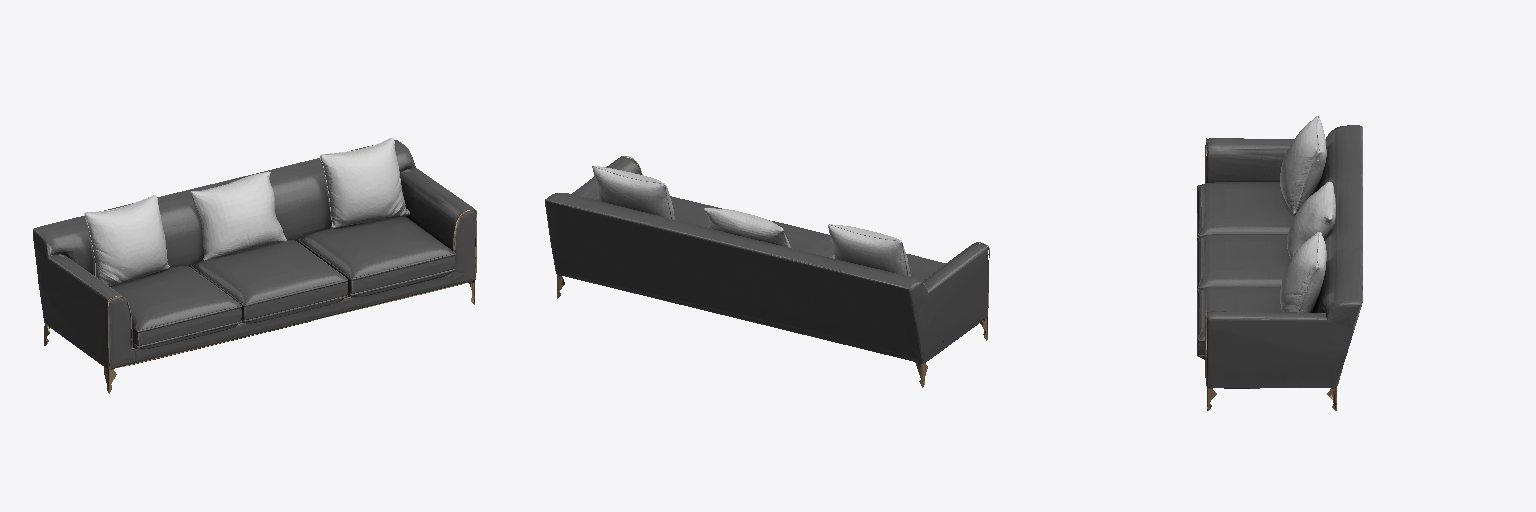
3 views of the same model, side by side, from view 1: azimuth 30°, elevation 25°; view 2: azimuth 150°, elevation 25°; view 3: azimuth 270°, elevation 25° (orthographic).
Parts seen in each view (by area): view 1: solid_001, solid_003, solid_002; view 2: solid_001, solid_003; view 3: solid_001, solid_003.
Part boxes in pixels (left/top/right/bottom): solid_001: left=33, top=140, right=475, bottom=368; solid_003: left=84, top=138, right=409, bottom=286; solid_002: left=44, top=210, right=476, bottom=393; solid_001: left=545, top=157, right=988, bottom=363; solid_003: left=592, top=166, right=910, bottom=276; solid_001: left=1197, top=125, right=1362, bottom=388; solid_003: left=1280, top=116, right=1335, bottom=312.
Bounding box in the file's own units: 2 × 0.6855 × 0.7747.
1 materials, 1 textured.